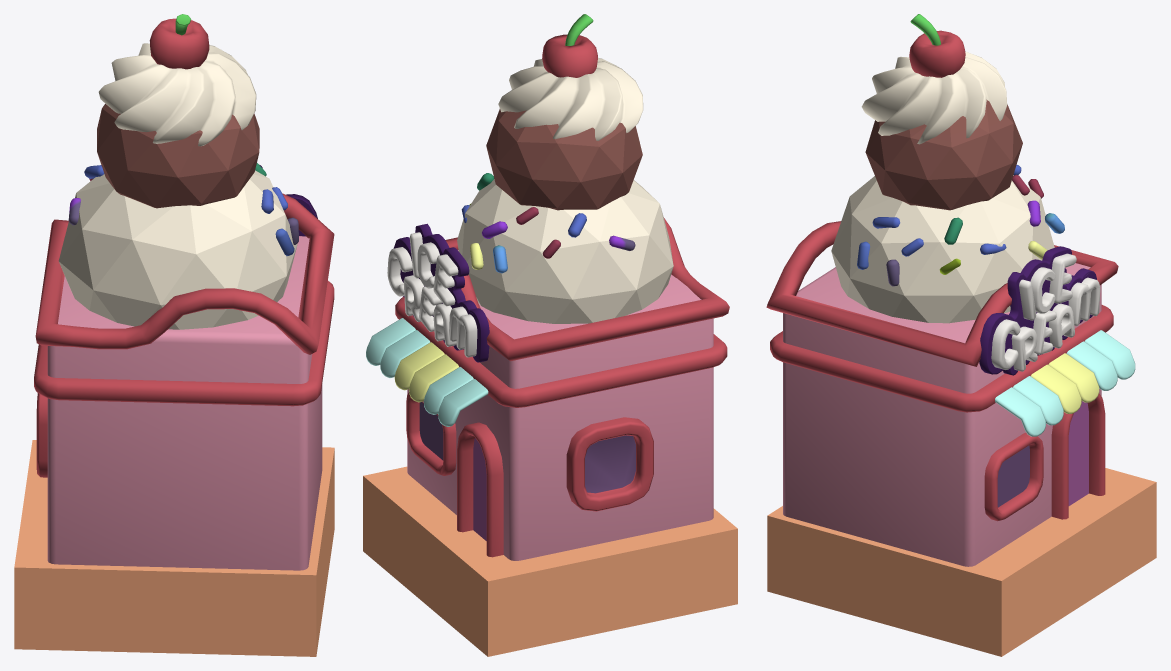
Rendered from IceCream.fbx.
3 views of the same model, side by side, from view 1: azimuth 30°, elevation 25°; view 2: azimuth 150°, elevation 25°; view 3: azimuth 270°, elevation 25° (orthographic). The views are drawn at different scales.
Parts seen in each view (by area): view 1: Ice_cream_Top_4; view 2: Ice_cream_Top_4; view 3: Ice_cream_Top_4.
Part boxes in pixels (x1=…): Ice_cream_Top_4: x1=14, y1=14, x2=334, y2=656; Ice_cream_Top_4: x1=363, y1=14, x2=737, y2=656; Ice_cream_Top_4: x1=766, y1=14, x2=1156, y2=656.
Size of the model in its own units: 3.89 by 6.1 by 3.9.
